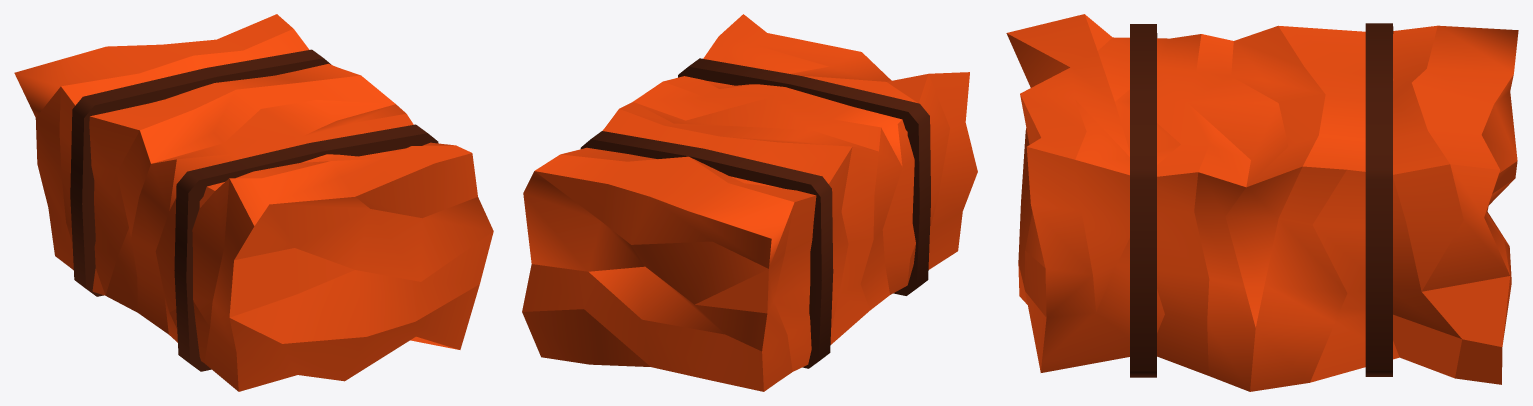
Rendered from Hay_5.fbx.
3 views of the same model, side by side, from view 1: azimuth 30°, elevation 25°; view 2: azimuth 150°, elevation 25°; view 3: azimuth 270°, elevation 25° (orthographic). The views are drawn at different scales.
Visible parts, largest first — view 1: Hay_5; view 2: Hay_5; view 3: Hay_5.
Part boxes in pixels (left/top/right/bottom): Hay_5: left=14, top=14, right=493, bottom=391; Hay_5: left=522, top=14, right=977, bottom=391; Hay_5: left=1006, top=14, right=1518, bottom=391.
Bounding box in the file's own units: 23 × 17.17 × 31.81.
